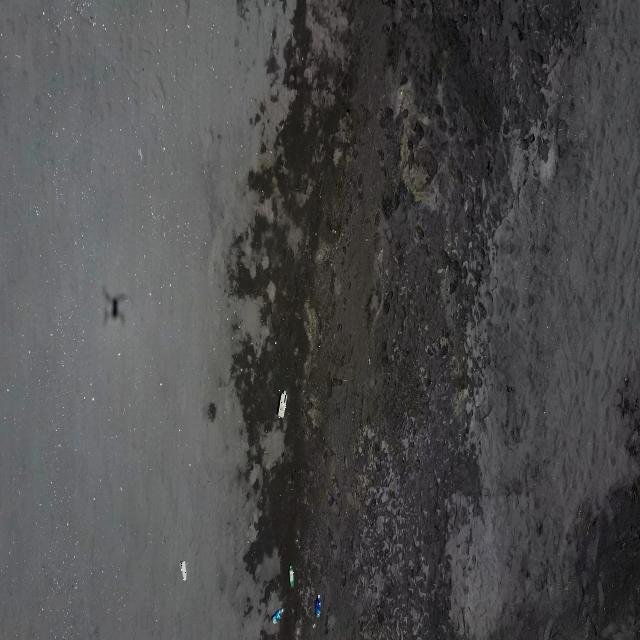plastic-bottle: (278, 390, 287, 418), (272, 608, 284, 624), (288, 565, 295, 588), (180, 560, 187, 582), (315, 595, 321, 616)
